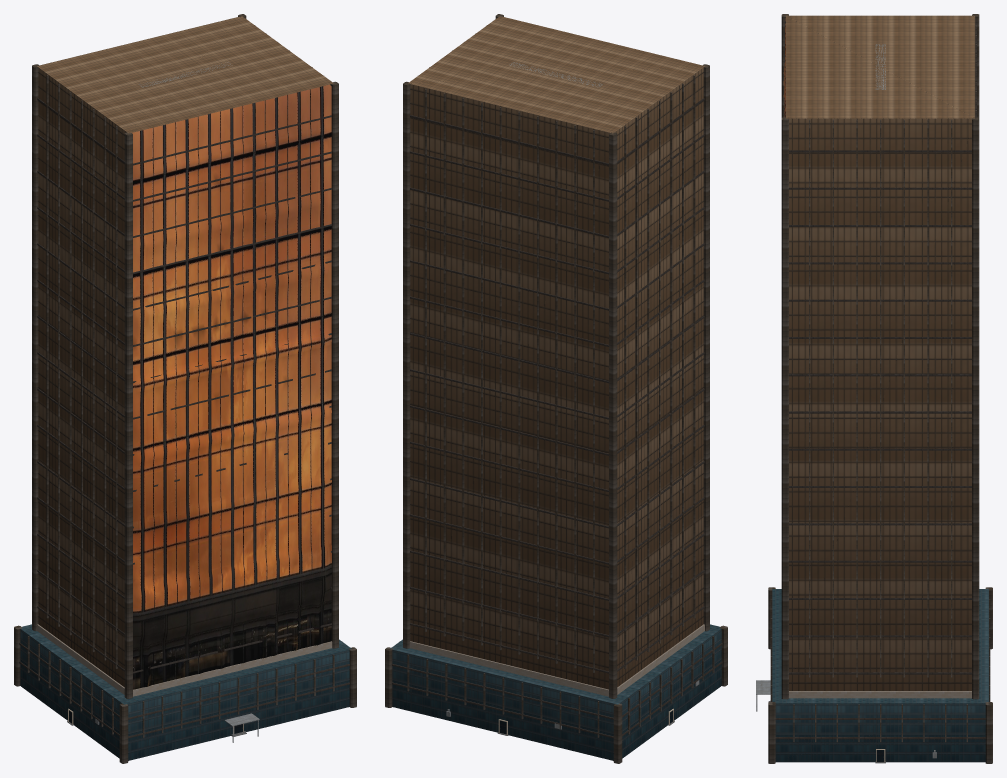
File: kestrel-hq_lod0.gltf
3 renders of one model, left to right at view 1: azimuth 30°, elevation 25°; view 2: azimuth 150°, elevation 25°; view 3: azimuth 270°, elevation 25°, orthographic. The views are drawn at different scales.
Parts seen in each view (by area): view 1: kestrel-hq_front, kestrel-hq_tier1, kestrel-hq__v4_metal_detail, kestrel-hq_tier0, kestrel-hq__v4_stone_detail; view 2: kestrel-hq_tier1, kestrel-hq__v4_metal_detail, kestrel-hq_tier0, kestrel-hq__v4_stone_detail; view 3: kestrel-hq_tier1, kestrel-hq__v4_metal_detail, kestrel-hq_tier0, kestrel-hq__v4_stone_detail.
Boxes of the visible parts, box(x1,y1,x2,y2) form: kestrel-hq_front: box(132, 84, 331, 689); kestrel-hq_tier1: box(37, 16, 333, 686); kestrel-hq__v4_metal_detail: box(14, 14, 356, 763); kestrel-hq_tier0: box(20, 624, 351, 760); kestrel-hq__v4_stone_detail: box(37, 624, 332, 696); kestrel-hq_tier1: box(408, 16, 704, 689); kestrel-hq__v4_metal_detail: box(385, 14, 727, 763); kestrel-hq_tier0: box(390, 624, 721, 760); kestrel-hq__v4_stone_detail: box(409, 624, 704, 696); kestrel-hq_tier1: box(786, 15, 975, 690); kestrel-hq__v4_metal_detail: box(768, 14, 992, 763); kestrel-hq_tier0: box(772, 589, 988, 762); kestrel-hq__v4_stone_detail: box(789, 691, 971, 698).
Bounding box in the file's own units: 51.49 × 130 × 43.75.
